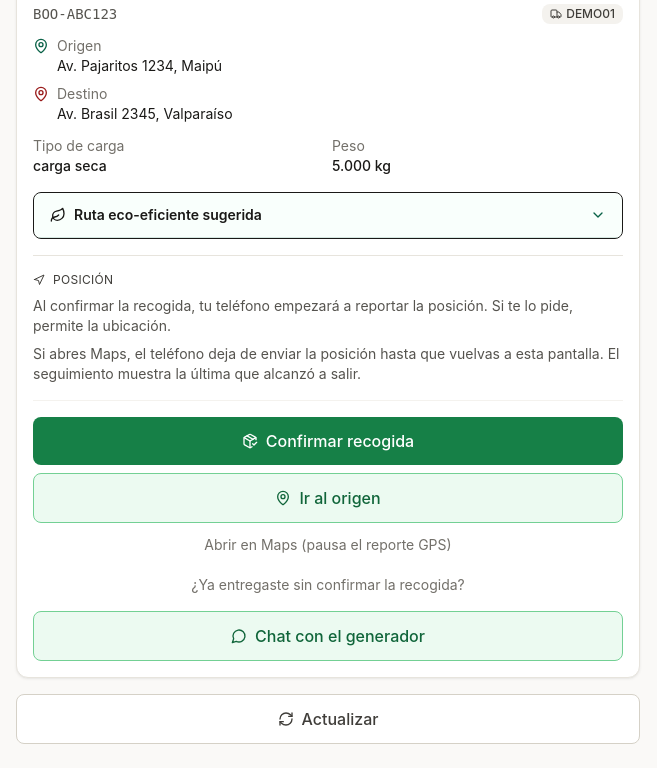
it: ConductorDashboardRoute — acciones del servicio › mientras carga la ruta, el panel no dice que no hay dibujo
(page scrolled)
Click the button with test id "navegar-origen".
click(328, 498)  # box x1=33 y1=472 x2=623 y2=522
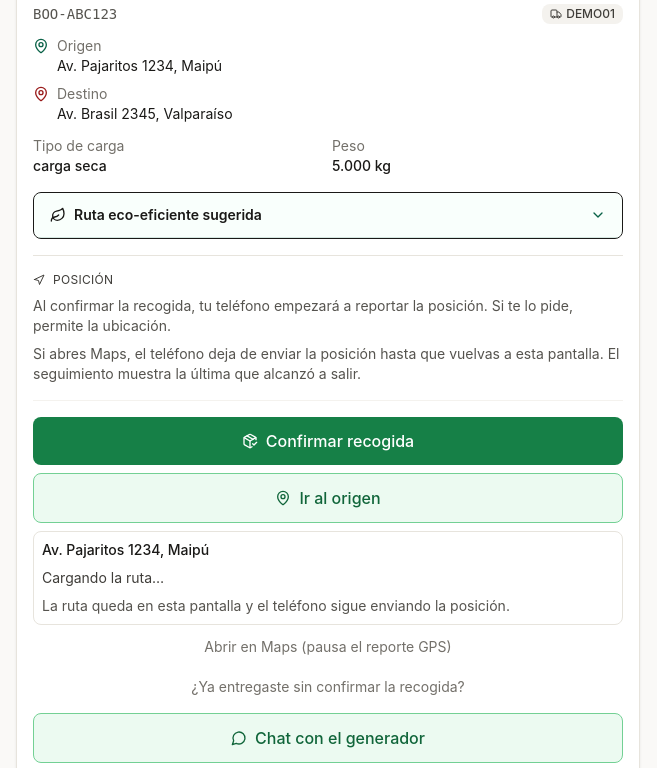
Expected: the text "Cargando la ruta…" is shown, x1=42 y1=568 x2=164 y2=586
